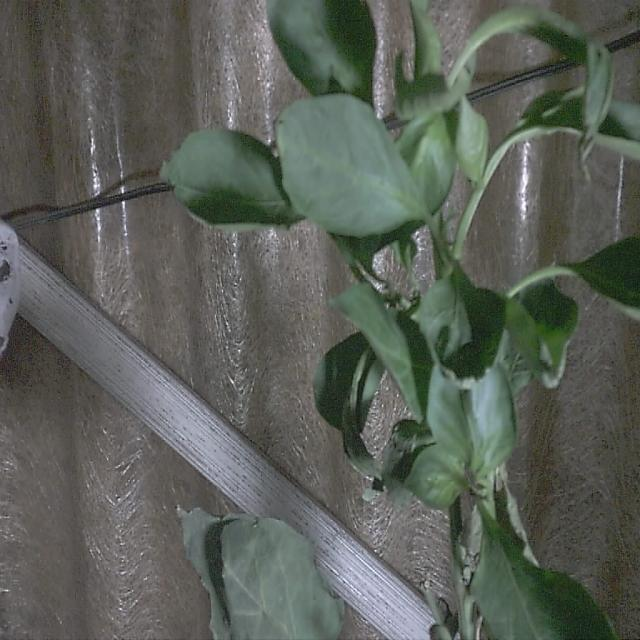Leaf: (174, 503, 347, 640), (275, 92, 422, 235), (158, 122, 299, 235), (406, 264, 508, 392)
